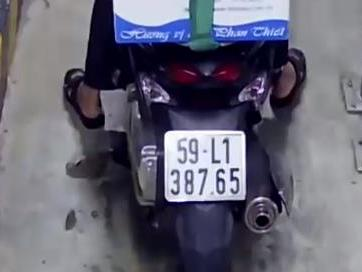num_plate: (163, 130, 249, 203)
